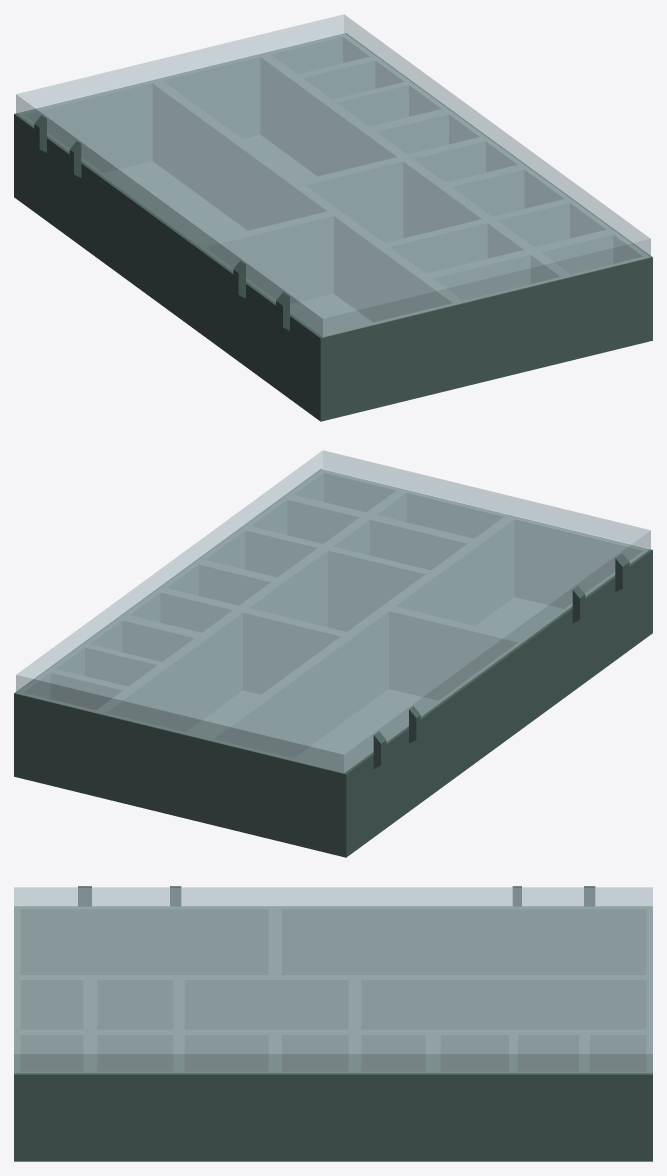
Rendered from Wire_Kit.fbx.
3 renders of one model, top to bottom at view 1: azimuth 30°, elevation 25°; view 2: azimuth 150°, elevation 25°; view 3: azimuth 270°, elevation 25°, orthographic. The views are drawn at different scales.
Parts seen in each view (by area): view 1: Case, Plastic_Glass; view 2: Case, Plastic_Glass; view 3: Case, Plastic_Glass.
Part boxes in pixels (box(x1,y1,x2,y2)): Case: box(14, 33, 652, 421); Plastic_Glass: box(16, 14, 650, 337); Case: box(14, 469, 652, 857); Plastic_Glass: box(16, 450, 650, 773); Case: box(14, 886, 652, 1161); Plastic_Glass: box(14, 887, 652, 1073).
Size of the model in its own units: 10.2 by 2.94 by 15.97.
